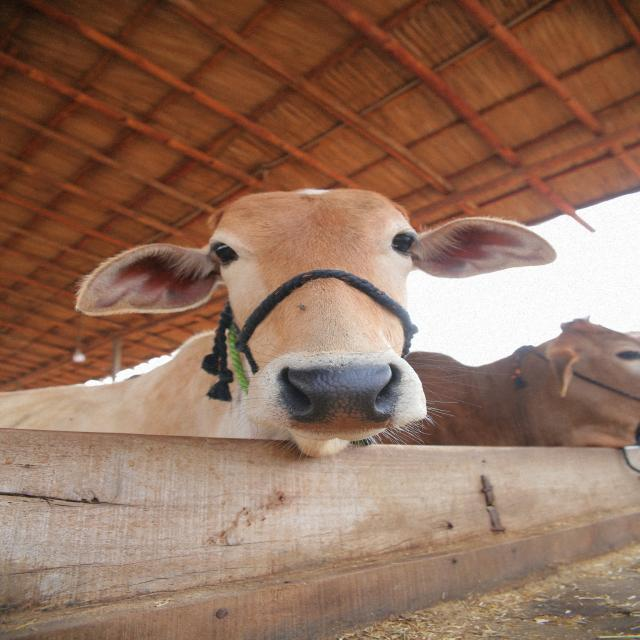muzzles: (267, 358, 415, 430)
